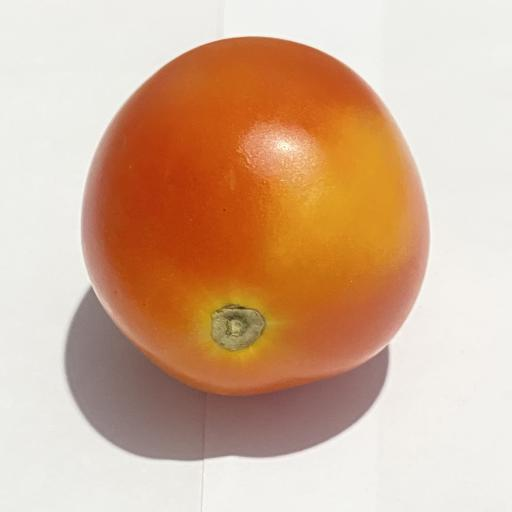ripe: (82, 37, 429, 395)
